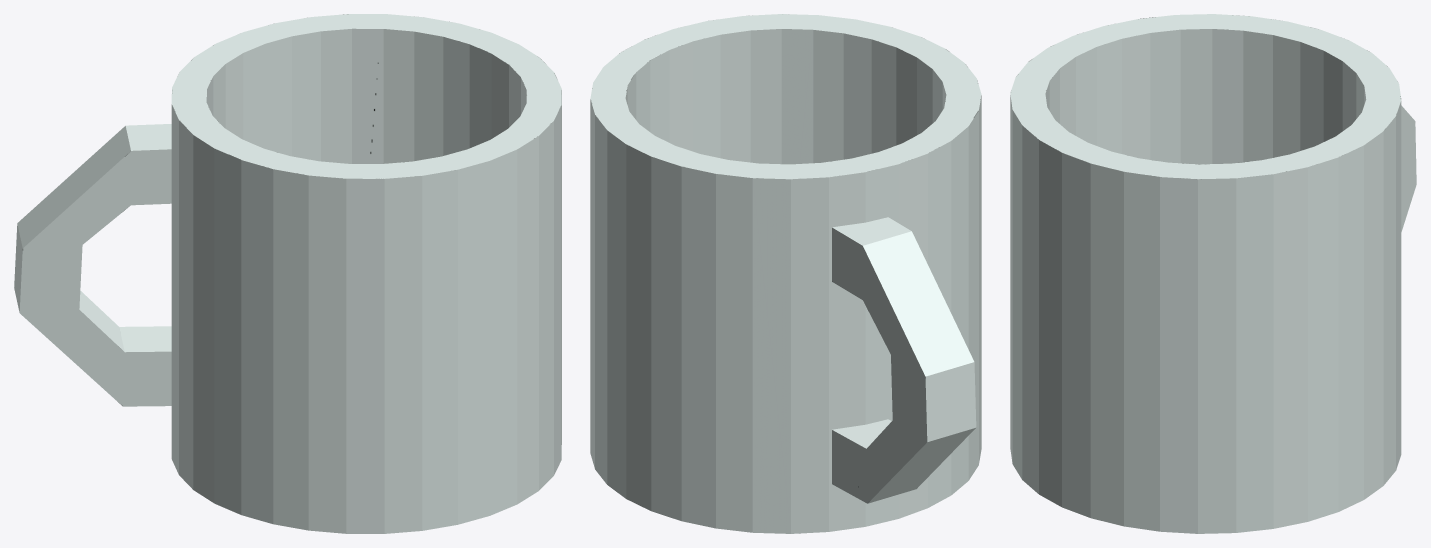
File: kubekkuchnia.glb
The picture shows the model from 3 angles, left to right: view 1: azimuth 30°, elevation 25°; view 2: azimuth 150°, elevation 25°; view 3: azimuth 270°, elevation 25°; orthographic projection.
Visible parts, largest first — view 1: biurko.072; view 2: biurko.072; view 3: biurko.072.
Part boxes in pixels (box(x1,y1,x2,y2)): biurko.072: box(14, 14, 561, 533); biurko.072: box(590, 14, 981, 533); biurko.072: box(1010, 14, 1416, 533).
Bounding box in the file's own units: 0.307 × 0.2376 × 0.2468.
Materials: 1 (1 with a texture image).
